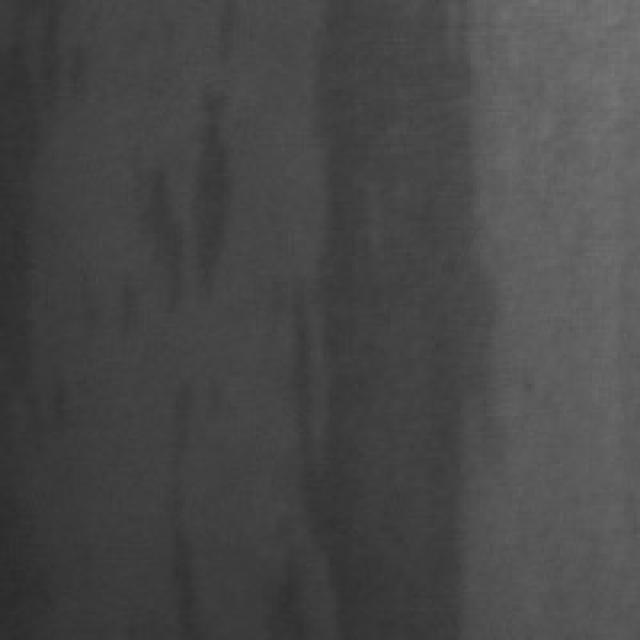inclusion: (294, 3, 522, 627), (7, 0, 86, 483), (170, 6, 259, 317), (154, 364, 227, 634)
